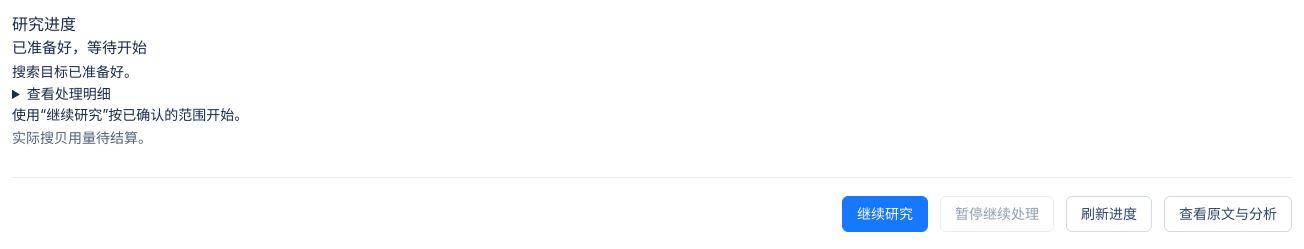
Test: reads without work until asked, then advances serially to honest completion
The image size is (1304, 249).
Click the button "继续研究".
click(885, 214)  # box [842, 196, 928, 232]
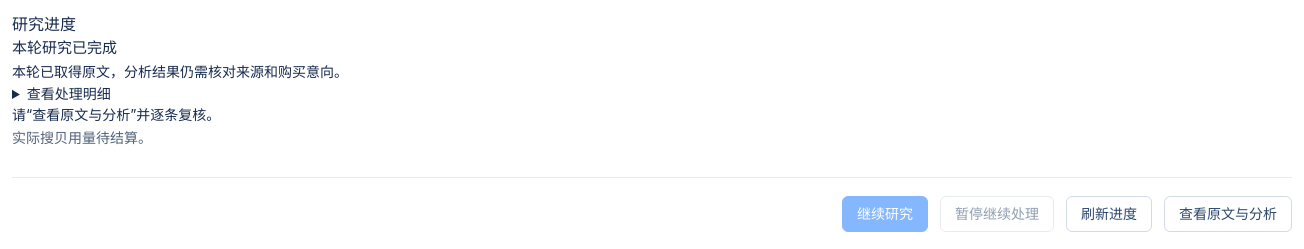
Expected: the text "实际搜贝用量待结算。" is shown, [12, 129, 152, 146]
Expected: the button "继续研究" is disabled, [842, 196, 928, 232]
Expected: the heading "本轮研究已完成" is shown, [12, 38, 117, 57]
